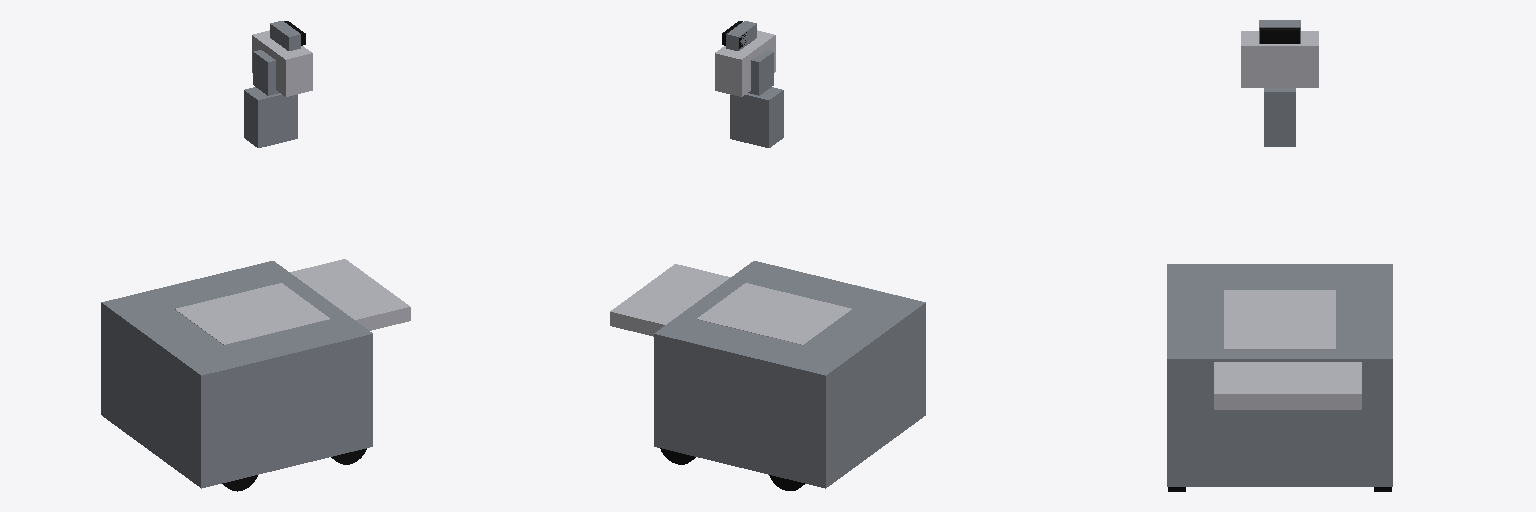
robot.urdf — opendubs:
<?xml version="1.0"?>
<!-- GENERATED by description/opendubs/gen_urdf.py from dimensions.yaml. Do not edit:
     change dimensions.yaml and re-run the generator.
     Head assembly fitted: galaxy_tablet; Femto mount: straight.
     base_link: centre of the wheel rectangle, axle height (workplan-thor-stack L.1).
     Movable joints zaxis / head_pan / head_tilt need a joint_states source.
     LEFT OUT (no CAD or measured position in the repo yet):
       - pinpoint_link (pinpoint)
       - tablet_front_camera_link (galaxy_tablet)
       - tablet_front_camera_optical_frame (follows tablet_front_camera_link)
       - tablet_rear_camera_link (galaxy_tablet)
       - tablet_rear_camera_optical_frame (follows tablet_rear_camera_link)
       - tablet_gps_link (galaxy_tablet)
       - tablet_imu_link (galaxy_tablet) -->
<robot name="opendubs">
  <material name="frame"><color rgba="0.55 0.57 0.6 1"/></material>
  <material name="plate"><color rgba="0.75 0.75 0.78 1"/></material>
  <material name="rubber"><color rgba="0.1 0.1 0.1 1"/></material>
  <link name="base_link"/>
  <link name="base_footprint"/>
  <joint name="base_footprint_joint" type="fixed">
    <parent link="base_link"/>
    <child link="base_footprint"/>
    <origin xyz="0 0 -0.07" rpy="0 0 0"/>
  </joint>
  <link name="datum">
    <visual>
      <origin xyz="0.29 0 0.154" rpy="0 0 0"/>
      <geometry><box size="0.644 0.649 0.404"/></geometry>
      <material name="frame"/>
    </visual>
    <visual>
      <origin xyz="0.713 0.022 0.322305" rpy="0 0 0"/>
      <geometry><box size="0.232 0.424 0.0515"/></geometry>
      <material name="plate"/>
    </visual>
  </link>
  <joint name="datum_joint" type="fixed">
    <parent link="base_link"/>
    <child link="datum"/>
    <origin xyz="-0.324 0 0.024" rpy="0 0 0"/>
  </joint>
  <link name="wheel_fl">
    <visual>
      <origin xyz="0 0 0" rpy="1.570796 0 0"/>
      <geometry><cylinder radius="0.07" length="0.05"/></geometry>
      <material name="rubber"/>
    </visual>
  </link>
  <joint name="wheel_fl_joint" type="fixed">
    <parent link="datum"/>
    <child link="wheel_fl"/>
    <origin xyz="0.528 0.2945 -0.024" rpy="0 0 0"/>
  </joint>
  <link name="wheel_fr">
    <visual>
      <origin xyz="0 0 0" rpy="1.570796 0 0"/>
      <geometry><cylinder radius="0.07" length="0.05"/></geometry>
      <material name="rubber"/>
    </visual>
  </link>
  <joint name="wheel_fr_joint" type="fixed">
    <parent link="datum"/>
    <child link="wheel_fr"/>
    <origin xyz="0.528 -0.2945 -0.024" rpy="0 0 0"/>
  </joint>
  <link name="wheel_rl">
    <visual>
      <origin xyz="0 0 0" rpy="1.570796 0 0"/>
      <geometry><cylinder radius="0.07" length="0.05"/></geometry>
      <material name="rubber"/>
    </visual>
  </link>
  <joint name="wheel_rl_joint" type="fixed">
    <parent link="datum"/>
    <child link="wheel_rl"/>
    <origin xyz="0.12 0.2945 -0.024" rpy="0 0 0"/>
  </joint>
  <link name="wheel_rr">
    <visual>
      <origin xyz="0 0 0" rpy="1.570796 0 0"/>
      <geometry><cylinder radius="0.07" length="0.05"/></geometry>
      <material name="rubber"/>
    </visual>
  </link>
  <joint name="wheel_rr_joint" type="fixed">
    <parent link="datum"/>
    <child link="wheel_rr"/>
    <origin xyz="0.12 -0.2945 -0.024" rpy="0 0 0"/>
  </joint>
  <link name="laser"/>
  <joint name="laser_joint" type="fixed">
    <parent link="datum"/>
    <child link="laser"/>
    <origin xyz="0.55438 0 0.2413" rpy="0 0 3.141593"/>
  </joint>
  <link name="laser_rear"/>
  <joint name="laser_rear_joint" type="fixed">
    <parent link="datum"/>
    <child link="laser_rear"/>
    <origin xyz="-0.199578 0 0.2413" rpy="0 0 0"/>
  </joint>
  <link name="lift_platform">
    <visual>
      <origin xyz="0.348 0 0.3571" rpy="0 0 0"/>
      <geometry><box size="0.4 0.32 0.001"/></geometry>
      <material name="plate"/>
    </visual>
    <visual>
      <origin xyz="0.4147 0 1.055875" rpy="0 0 0"/>
      <geometry><box size="0.14778 0.094 0.172"/></geometry>
      <material name="frame"/>
    </visual>
  </link>
  <joint name="zaxis" type="prismatic">
    <parent link="datum"/>
    <child link="lift_platform"/>
    <origin xyz="0 0 0" rpy="0 0 0"/>
    <axis xyz="0 0 1"/>
    <limit lower="0" upper="0.2751" effort="0" velocity="0"/>
  </joint>
  <link name="arm_mount"/>
  <joint name="arm_mount_joint" type="fixed">
    <parent link="lift_platform"/>
    <child link="arm_mount"/>
    <origin xyz="0.423 0 0.3575" rpy="0 0 0"/>
  </joint>
  <link name="head_pan_link">
    <visual>
      <origin xyz="-0.01 0 -0.0357" rpy="0 0 0"/>
      <geometry><box size="0.072 0.095 0.12"/></geometry>
      <material name="frame"/>
    </visual>
  </link>
  <joint name="head_pan" type="revolute">
    <parent link="lift_platform"/>
    <child link="head_pan_link"/>
    <origin xyz="0.423 0 1.245575" rpy="0 0 0"/>
    <axis xyz="0 0 1"/>
    <limit lower="-2.617994" upper="2.617994" effort="0" velocity="0"/>
  </joint>
  <link name="head_tilt_link">
    <visual>
      <origin xyz="0.03494 0 -0.015" rpy="0 0 0"/>
      <geometry><box size="0.10162 0.221 0.134"/></geometry>
      <material name="plate"/>
    </visual>
  </link>
  <joint name="head_tilt" type="revolute">
    <parent link="head_pan_link"/>
    <child link="head_tilt_link"/>
    <origin xyz="0 0 0" rpy="0 0 0"/>
    <axis xyz="0 1 0"/>
    <limit lower="-1.636246" upper="0.274889" effort="0" velocity="0"/>
  </joint>
  <link name="head_screen_link"/>
  <joint name="head_screen_link_joint" type="fixed">
    <parent link="head_tilt_link"/>
    <child link="head_screen_link"/>
    <origin xyz="0.0828 -0.00035 -0.01515" rpy="0 0 0"/>
  </joint>
  <link name="femto_mount_link">
    <visual>
      <origin xyz="-0.008125 0 0.000835" rpy="0 0 0"/>
      <geometry><box size="0.04625 0.1211 0.10105"/></geometry>
      <material name="frame"/>
    </visual>
    <visual>
      <origin xyz="0.00135 0 0.02751" rpy="0 0 0"/>
      <geometry><box size="0.0652 0.11516 0.0402"/></geometry>
      <material name="rubber"/>
    </visual>
  </link>
  <joint name="femto_mount_link_joint" type="fixed">
    <parent link="head_tilt_link"/>
    <child link="femto_mount_link"/>
    <origin xyz="0.05575 0 0.052" rpy="0 0 0"/>
  </joint>
  <link name="camera_link"/>
  <joint name="camera_link_joint" type="fixed">
    <parent link="femto_mount_link"/>
    <child link="camera_link"/>
    <origin xyz="0.03395 -0.03 0.02751" rpy="0 0.10472 0"/>
  </joint>
</robot>

--- What the picture shows (computed from the rendered views, not written in the file) ---
Views: 3 orthographic renders of the robot side by side, from view 1: azimuth 30°, elevation 25°; view 2: azimuth 150°, elevation 25°; view 3: azimuth 270°, elevation 25°.
Robot: opendubs — 16 links, 15 joints (2 revolute, 1 prismatic, 12 fixed); root link base_link; default pose: all joints at 0.
Links seen in each view (by area): view 1: datum, lift_platform, head_tilt_link, head_pan_link, femto_mount_link; view 2: datum, lift_platform, head_tilt_link, head_pan_link, femto_mount_link; view 3: datum, lift_platform, head_tilt_link, femto_mount_link.
Link boxes in pixels (x1,y1,x2,y2): datum: (101, 259, 410, 488); lift_platform: (175, 87, 329, 344); head_tilt_link: (252, 30, 312, 96); head_pan_link: (253, 50, 278, 95); femto_mount_link: (270, 21, 305, 50); datum: (610, 261, 925, 488); lift_platform: (697, 87, 851, 344); head_tilt_link: (715, 30, 775, 96); head_pan_link: (748, 50, 773, 95); femto_mount_link: (722, 21, 756, 50); datum: (1167, 264, 1392, 486); lift_platform: (1224, 88, 1335, 349); head_tilt_link: (1241, 31, 1318, 87); femto_mount_link: (1259, 20, 1300, 43).
Bounding box of the posed robot: 0.861 × 0.649 × 1.44 m (x, y, z).
Geometry: primitives only (box / cylinder / sphere), no mesh files.
